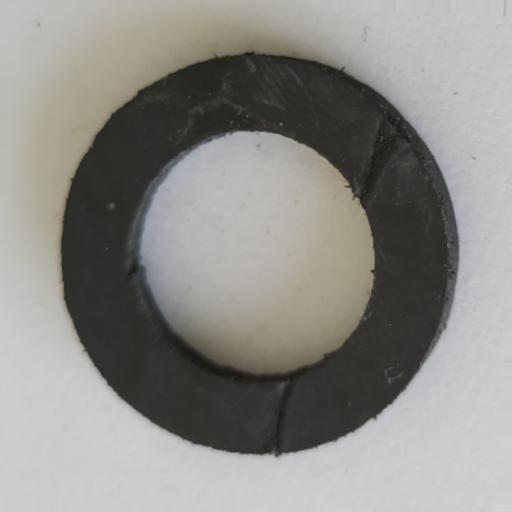defect: (357, 112, 412, 208), (264, 372, 302, 460)
